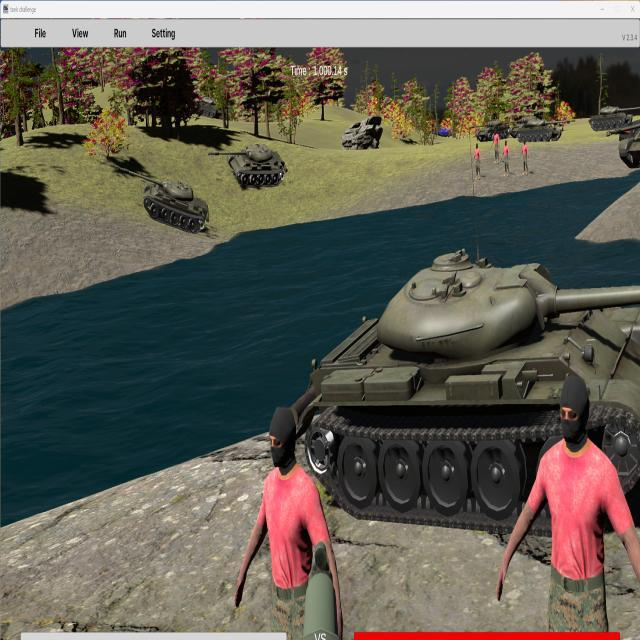Human: (497, 372, 640, 639), (235, 405, 342, 638)
Tank: (290, 250, 640, 531), (113, 163, 209, 234), (207, 143, 288, 189), (606, 116, 640, 171), (515, 118, 574, 143), (588, 105, 640, 132)
